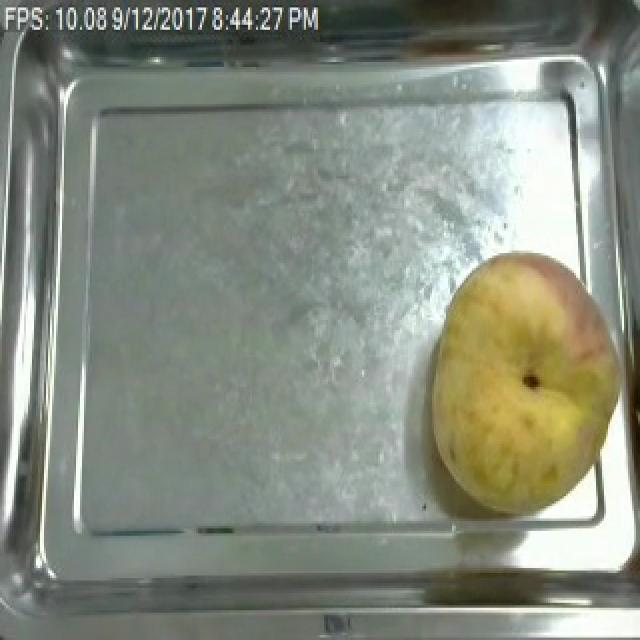Fruit: (416, 243, 640, 524)
